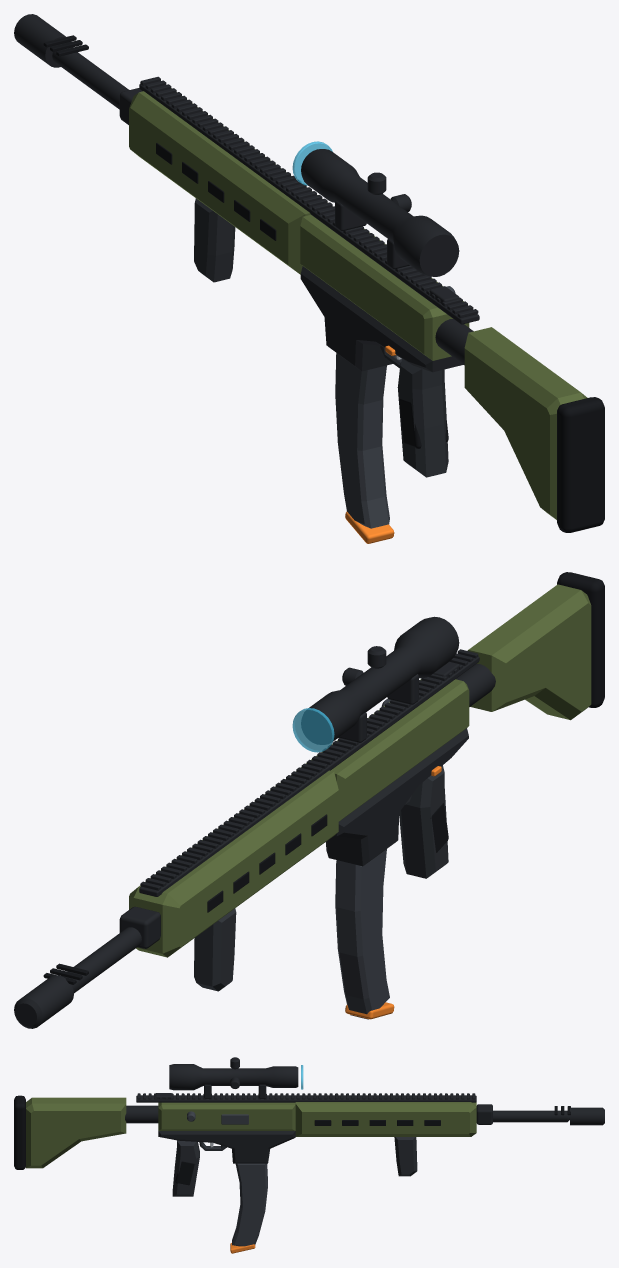
The model's file is rifle.glb.
3 views of the same model, one above another, from view 1: azimuth 30°, elevation 25°; view 2: azimuth 150°, elevation 25°; view 3: azimuth 270°, elevation 25° (orthographic). The views are drawn at different scales.
Parts seen in each view (by area): view 1: handguard, stock, upper_receiver, magazine, scope, buttpad, lower_receiver, grip, foregrip, rail_base, barrel, muzzle_brake (+2 smaller); view 2: handguard, stock, upper_receiver, scope, magazine, lower_receiver, grip, foregrip, buttpad, rail_base, muzzle_brake, barrel (+3 smaller); view 3: handguard, stock, upper_receiver, scope, lower_receiver, magazine, rail_base, grip, barrel, buttpad, foregrip, muzzle_brake (+4 smaller).
Part boxes in pixels (x1,y1,x2,y2): handguard: [129, 88, 327, 274]; stock: [464, 327, 587, 519]; upper_receiver: [300, 215, 469, 360]; magazine: [335, 353, 389, 528]; scope: [301, 149, 459, 276]; buttpad: [557, 397, 604, 532]; lower_receiver: [300, 266, 463, 372]; grip: [397, 359, 448, 477]; foregrip: [194, 198, 235, 282]; rail_base: [139, 84, 479, 324]; barrel: [52, 44, 129, 109]; muzzle_brake: [14, 14, 72, 67]; handguard: [129, 767, 338, 957]; stock: [467, 584, 591, 720]; upper_receiver: [301, 679, 469, 821]; scope: [301, 616, 459, 744]; magazine: [335, 849, 389, 1019]; lower_receiver: [325, 728, 468, 866]; grip: [399, 765, 448, 878]; foregrip: [194, 908, 236, 991]; buttpad: [557, 572, 604, 707]; rail_base: [139, 656, 479, 896]; muzzle_brake: [14, 975, 73, 1028]; barrel: [61, 927, 141, 993]; handguard: [295, 1102, 476, 1136]; stock: [25, 1097, 126, 1168]; upper_receiver: [158, 1102, 295, 1130]; scope: [169, 1064, 298, 1090]; lower_receiver: [158, 1131, 295, 1163]; magazine: [232, 1163, 267, 1246]; rail_base: [136, 1095, 476, 1102]; grip: [172, 1140, 199, 1196]; barrel: [493, 1110, 569, 1122]; buttpad: [14, 1095, 25, 1169]; foregrip: [394, 1137, 417, 1176]; muzzle_brake: [570, 1107, 604, 1125].
Size of the model in its own units: 0.0672 by 0.3857 by 1.08.
